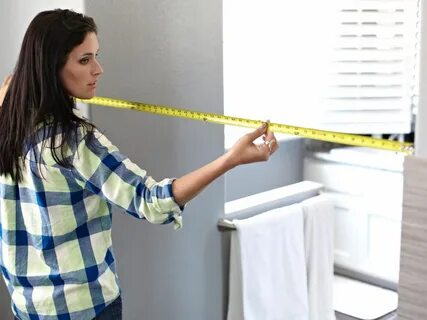awake: (1, 7, 280, 319)
